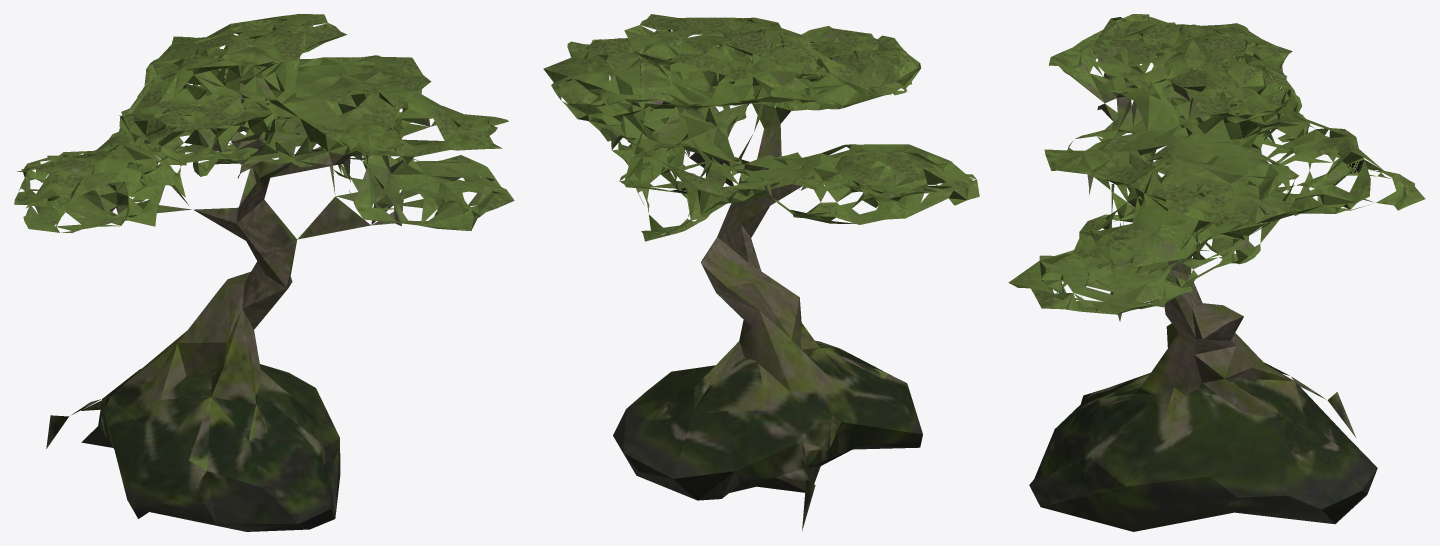
The model's file is sp_m_bonsai.glb.
3 views of the same model, side by side, from view 1: azimuth 30°, elevation 25°; view 2: azimuth 150°, elevation 25°; view 3: azimuth 270°, elevation 25° (orthographic). The views are drawn at different scales.
Parts seen in each view (by area): view 1: output_unwrapped; view 2: output_unwrapped; view 3: output_unwrapped.
Part boxes in pixels (<box>): output_unwrapped: <box>14,14,514,531</box>; output_unwrapped: <box>543,14,979,530</box>; output_unwrapped: <box>1008,14,1425,531</box>.
Bounding box in the file's own units: 1.7 × 1.54 × 1.27.
1 material, 1 textured.
